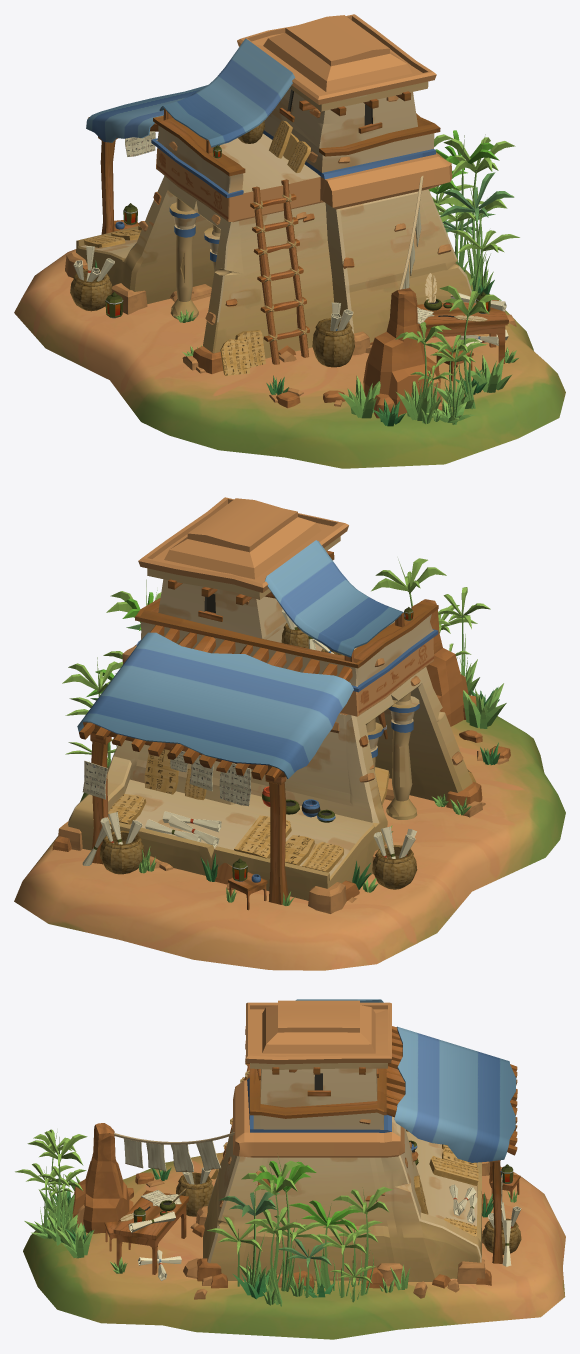
3 renders of one model, top to bottom at view 1: azimuth 30°, elevation 25°; view 2: azimuth 150°, elevation 25°; view 3: azimuth 270°, elevation 25°, orthographic. The views are drawn at different scales.
Visible parts, largest first — view 1: GameArt; view 2: GameArt; view 3: GameArt.
Boxes of the visible parts, x1,y1,x2,y2 form: GameArt: [14, 14, 565, 468]; GameArt: [14, 497, 565, 970]; GameArt: [15, 999, 565, 1339].
Size of the model in its own units: 1031 by 728 by 1382.
Materials: 2 (2 with a texture image).
